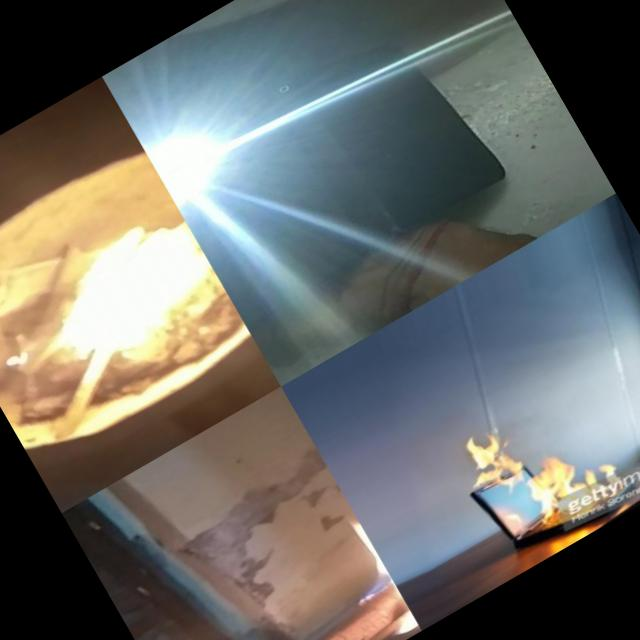fire: (0, 199, 236, 409), (293, 492, 422, 640), (436, 411, 538, 514), (523, 428, 622, 512)
